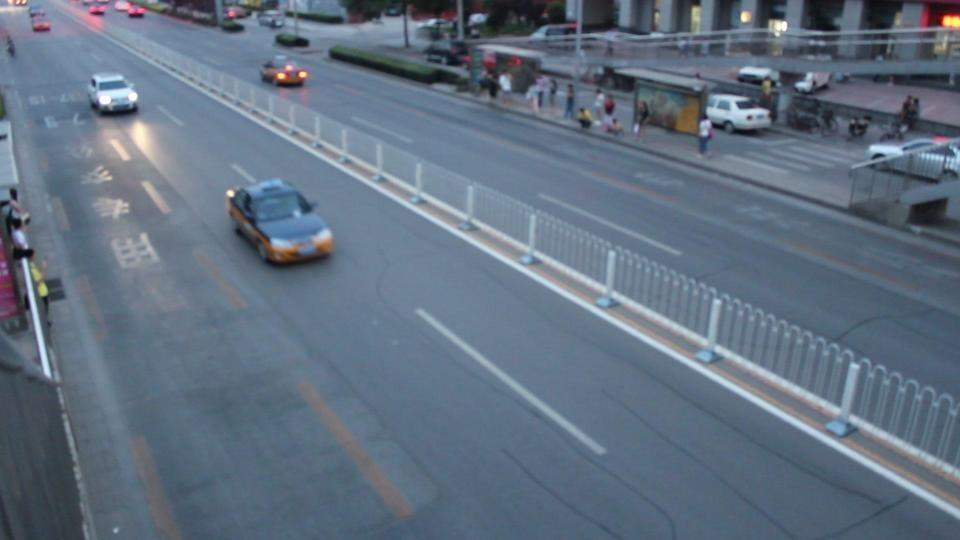car: (225, 178, 335, 265), (860, 137, 959, 175), (706, 93, 772, 135), (86, 72, 140, 115), (259, 56, 310, 87), (735, 65, 778, 88), (793, 72, 832, 94), (112, 1, 146, 19), (30, 11, 51, 33), (87, 1, 109, 15)
